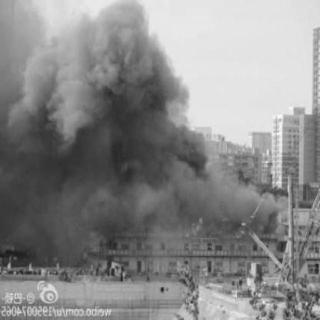Fire: (172, 214, 262, 241)
Smoke: (6, 5, 206, 252)
